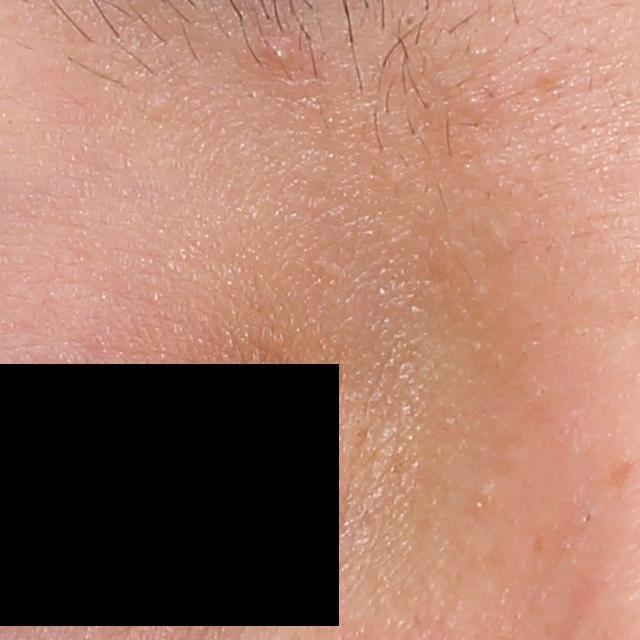comedo: (401, 11, 420, 31)
